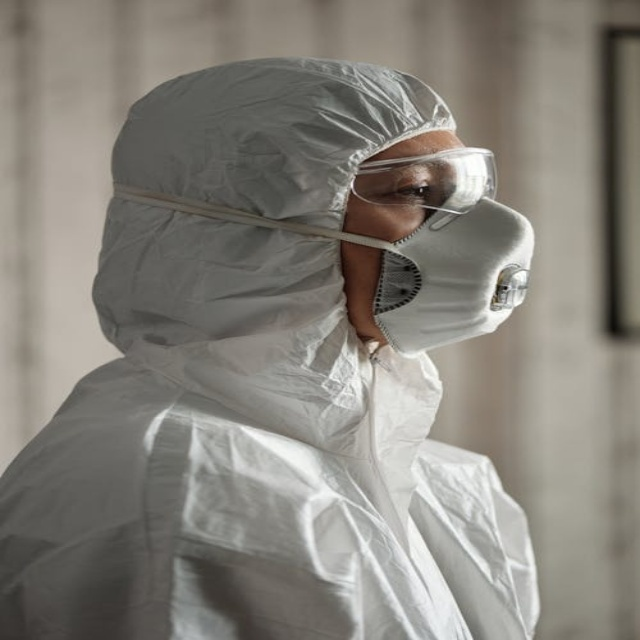Gafas: (346, 144, 507, 218)
Mascara: (366, 194, 536, 356)
